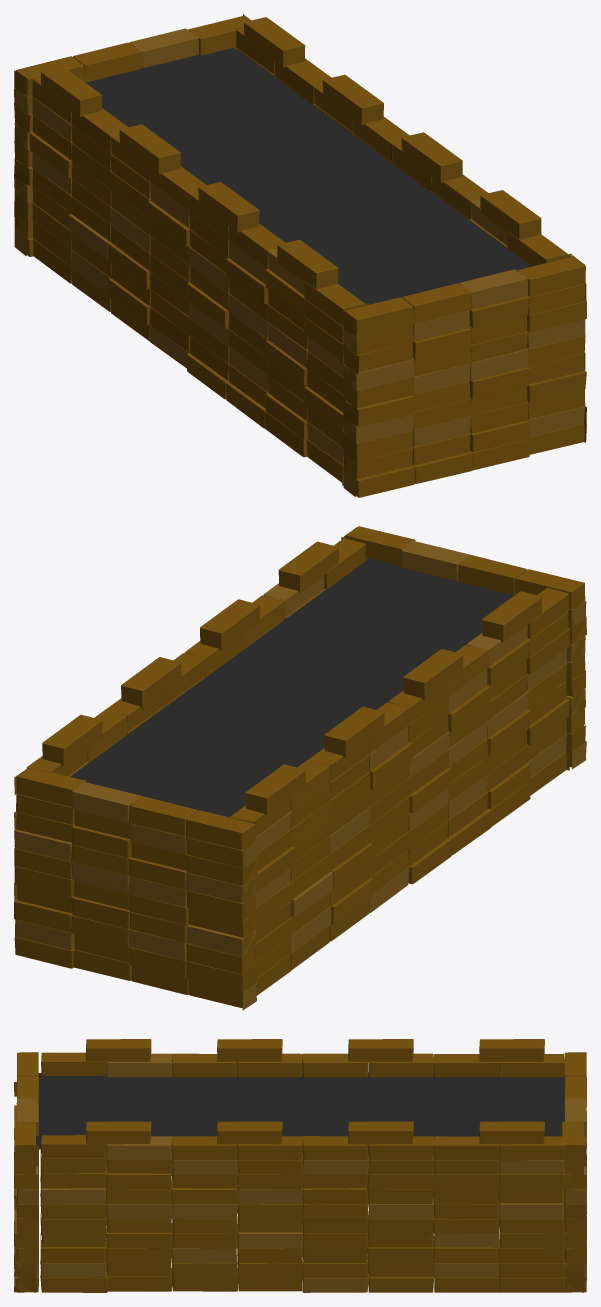
File: Wall_BlockSolo.fbx
The picture shows the model from 3 angles, top to bottom: view 1: azimuth 30°, elevation 25°; view 2: azimuth 150°, elevation 25°; view 3: azimuth 270°, elevation 25°; orthographic projection. The views are drawn at different scales.
Visible parts, largest first — view 1: Cube.049, Cube.055, Plane.003, Cube.054, Cube.046, Cube.052, Cube.047; view 2: Cube.049, Cube.054, Plane.003, Cube.055, Cube.046, Cube.052, Cube.047; view 3: Cube.046, Plane.003, Cube.049, Cube.047, Cube.052, Cube.055, Cube.054.
Part boxes in pixels (<box>): Cube.049: <box>28,76,368,485</box>; Cube.055: <box>343,255,586,497</box>; Plane.003: <box>85,48,531,304</box>; Cube.054: <box>14,14,250,256</box>; Cube.046: <box>232,27,571,266</box>; Cube.052: <box>41,66,338,288</box>; Cube.047: <box>244,17,541,239</box>; Cube.049: <box>230,587,569,995</box>; Cube.054: <box>14,768,257,1010</box>; Plane.003: <box>70,558,514,817</box>; Cube.055: <box>343,526,586,769</box>; Cube.046: <box>26,537,365,776</box>; Cube.052: <box>245,591,542,815</box>; Cube.047: <box>42,541,338,765</box>; Cube.046: <box>40,1135,565,1292</box>; Plane.003: <box>36,1073,564,1149</box>; Cube.049: <box>40,1052,564,1209</box>; Cube.047: <box>86,1121,544,1145</box>; Cube.052: <box>86,1039,544,1062</box>; Cube.055: <box>14,1052,38,1292</box>; Cube.054: <box>562,1052,586,1292</box>.
Size of the model in its own units: 5.85 by 4.7 by 15.12.
